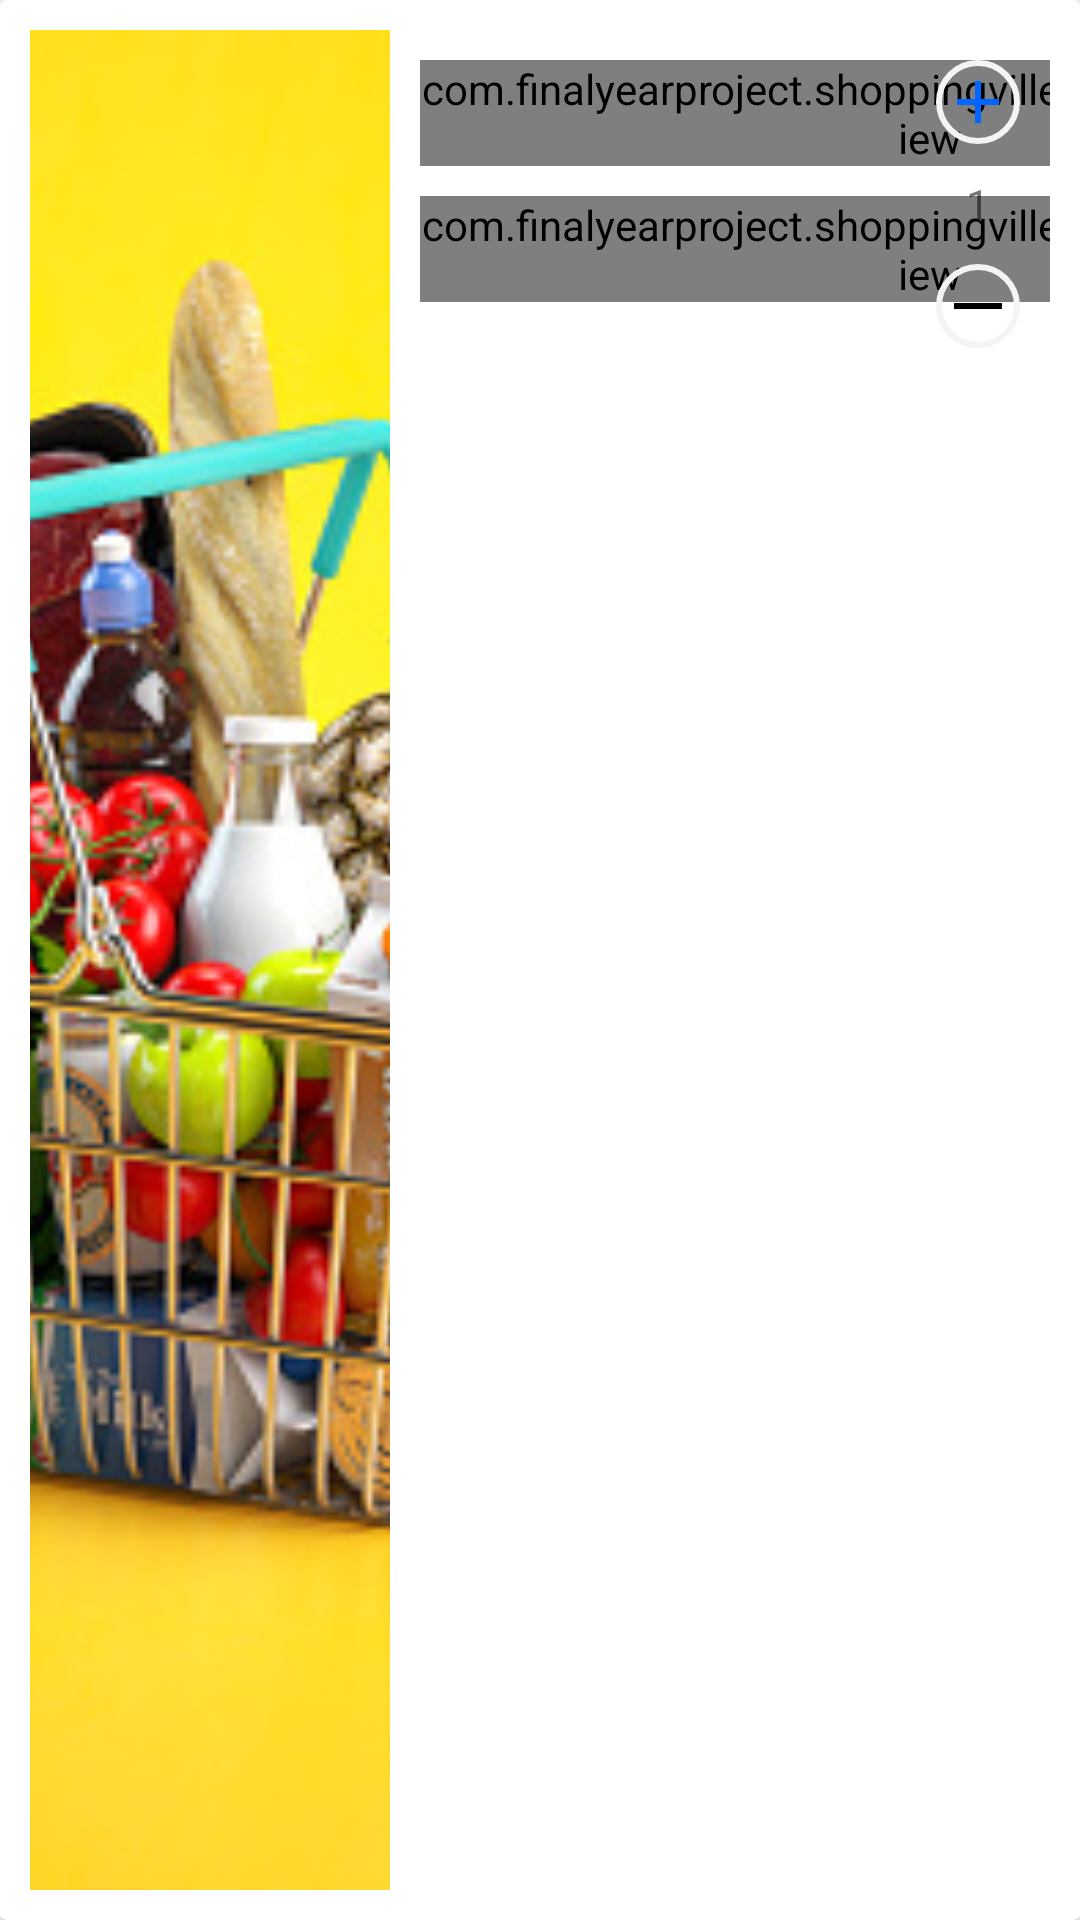

Named icons in this screenshot (1080w x 1920h) and their centers, [x,y]:
add: [978,102]
subtract: [978,306]
